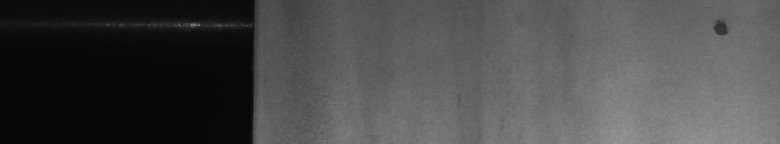fi: (708, 12, 735, 44)
